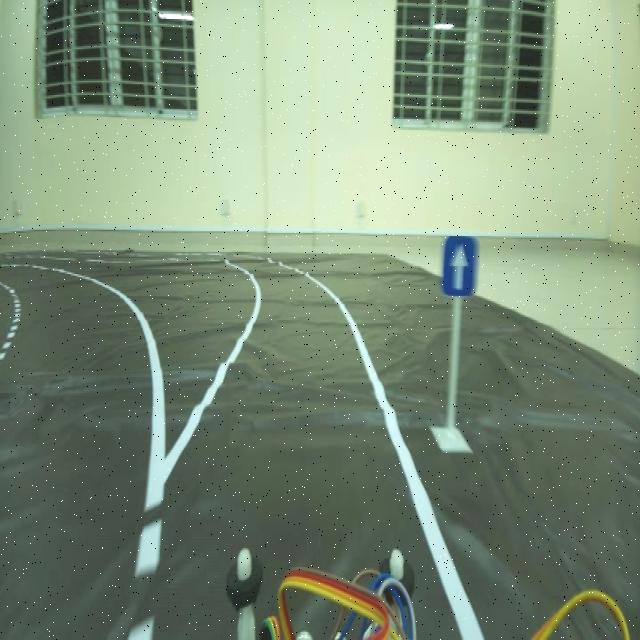onewayroad: (440, 230, 484, 304)
